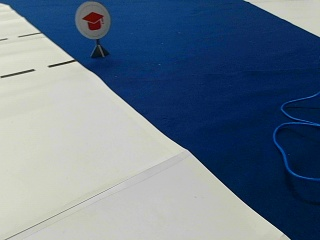school: (75, 1, 110, 39)
